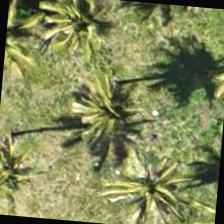Kelapa_Sawit: (50, 62, 148, 160), (103, 143, 202, 223), (22, 0, 119, 73), (0, 141, 52, 218)
